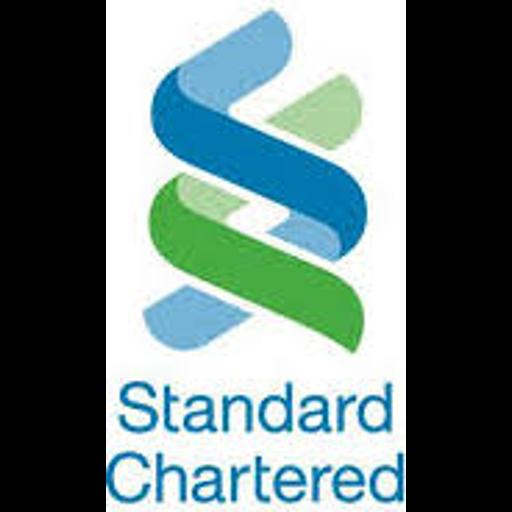Standard Chartered Bank: (106, 0, 406, 512)
